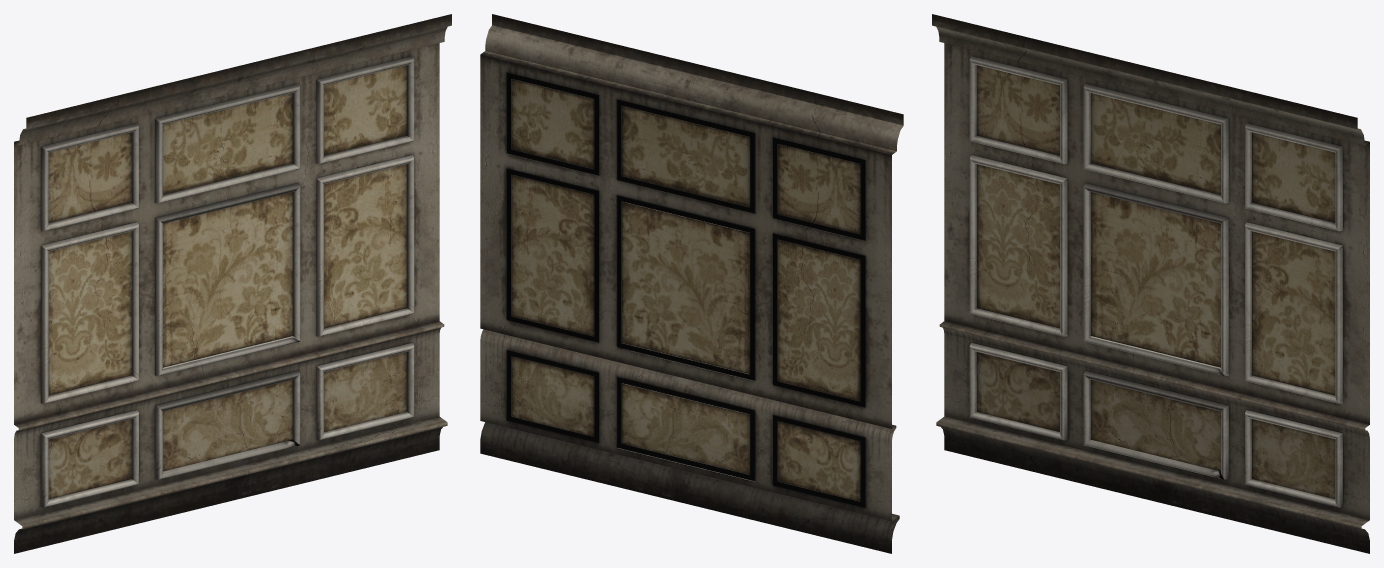
3 views of the same model, side by side, from view 1: azimuth 30°, elevation 25°; view 2: azimuth 150°, elevation 25°; view 3: azimuth 330°, elevation 25° (orthographic). The views are drawn at different scales.
Visible parts, largest first — view 1: mansionbase_default; view 2: mansionbase_default; view 3: mansionbase_default.
Part boxes in pixels (x1,y1,x2,y2): mansionbase_default: (14, 14, 451, 553); mansionbase_default: (480, 14, 903, 553); mansionbase_default: (932, 14, 1369, 553).
Size of the model in its own units: 4 by 4 by 0.2045.
